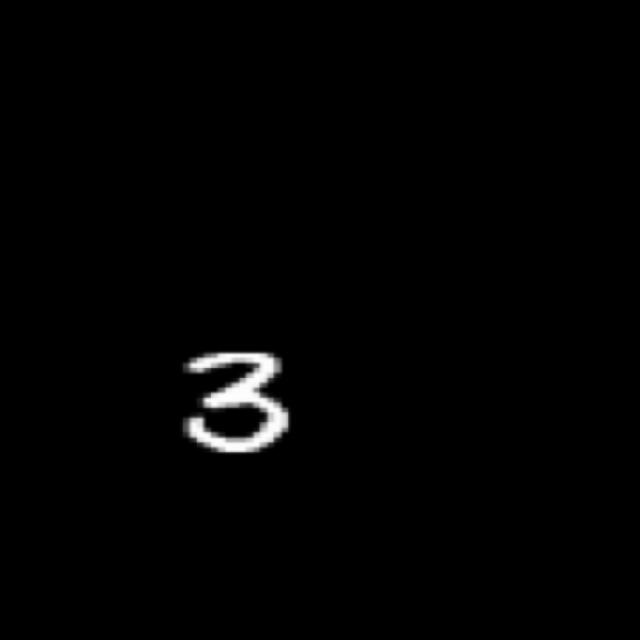three -3-: (168, 346, 304, 458)
